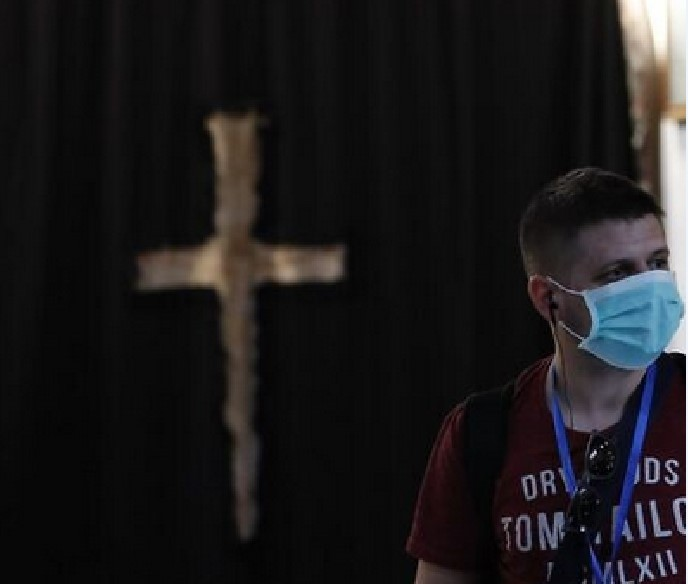face_with_mask: (528, 177, 684, 372)
